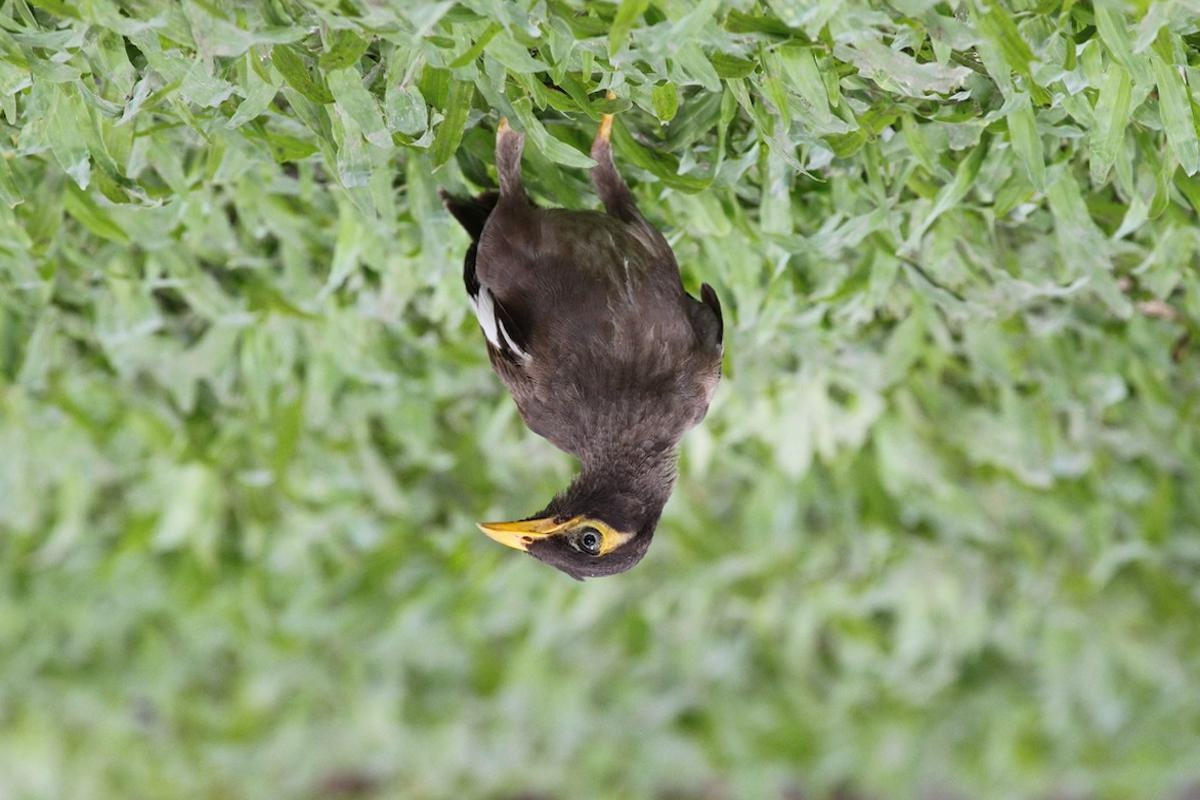myna: (464, 88, 668, 607)
